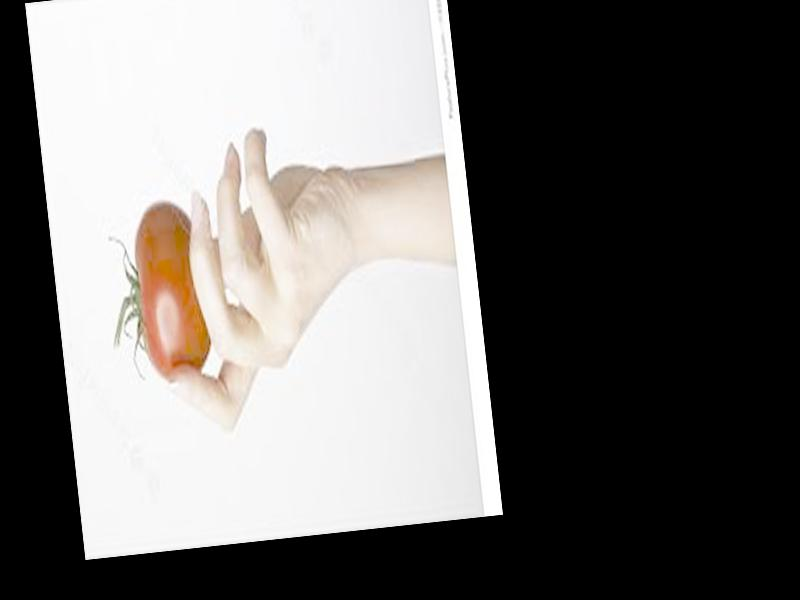Tomato: (100, 200, 213, 385)
